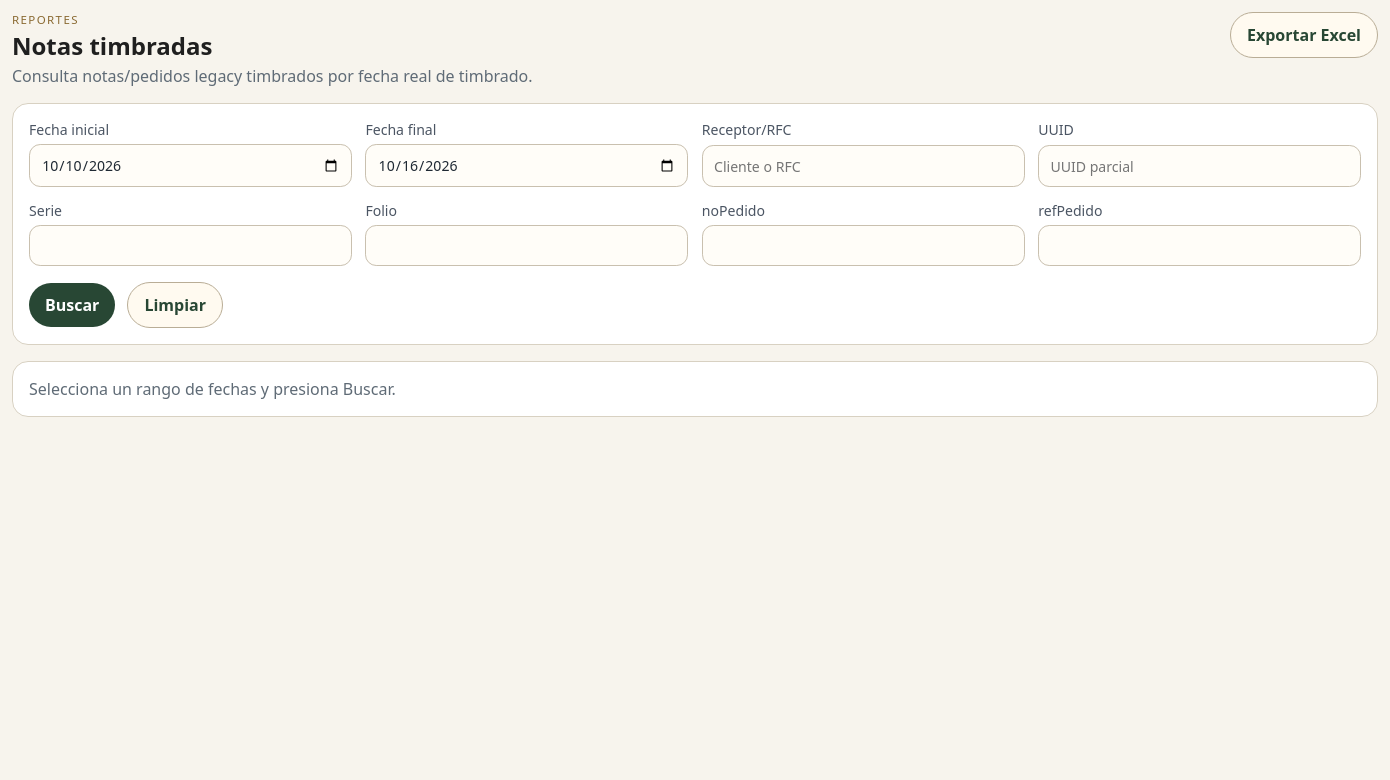
StampedLegacyNotesReportPageComponent › renders filters and loads grid results with current filters
Type "2026-05-01" into the date field labelled "Fecha inicial" at (190, 166), box [29,144,352,187]
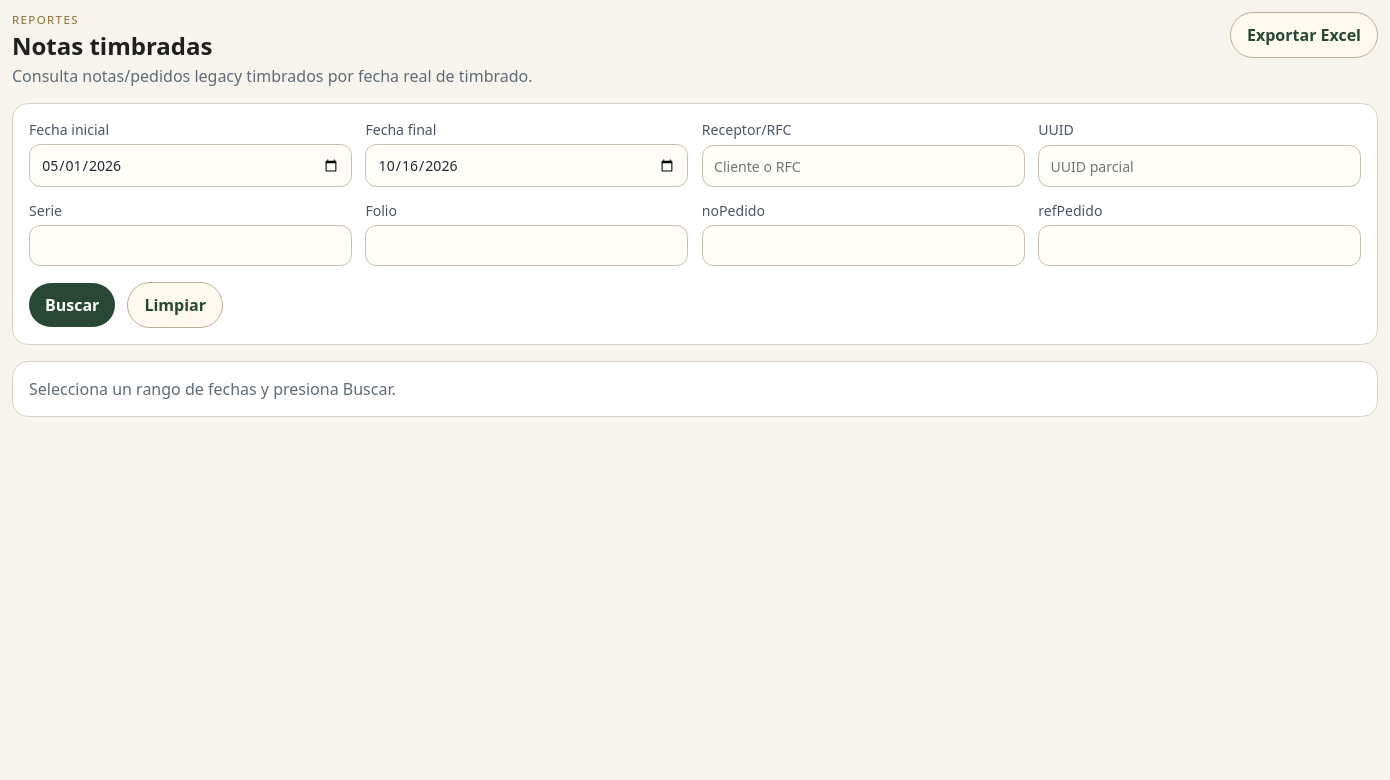
Type "2026-05-04" into the date field labelled "Fecha final" at (527, 166), box [365,144,688,187]
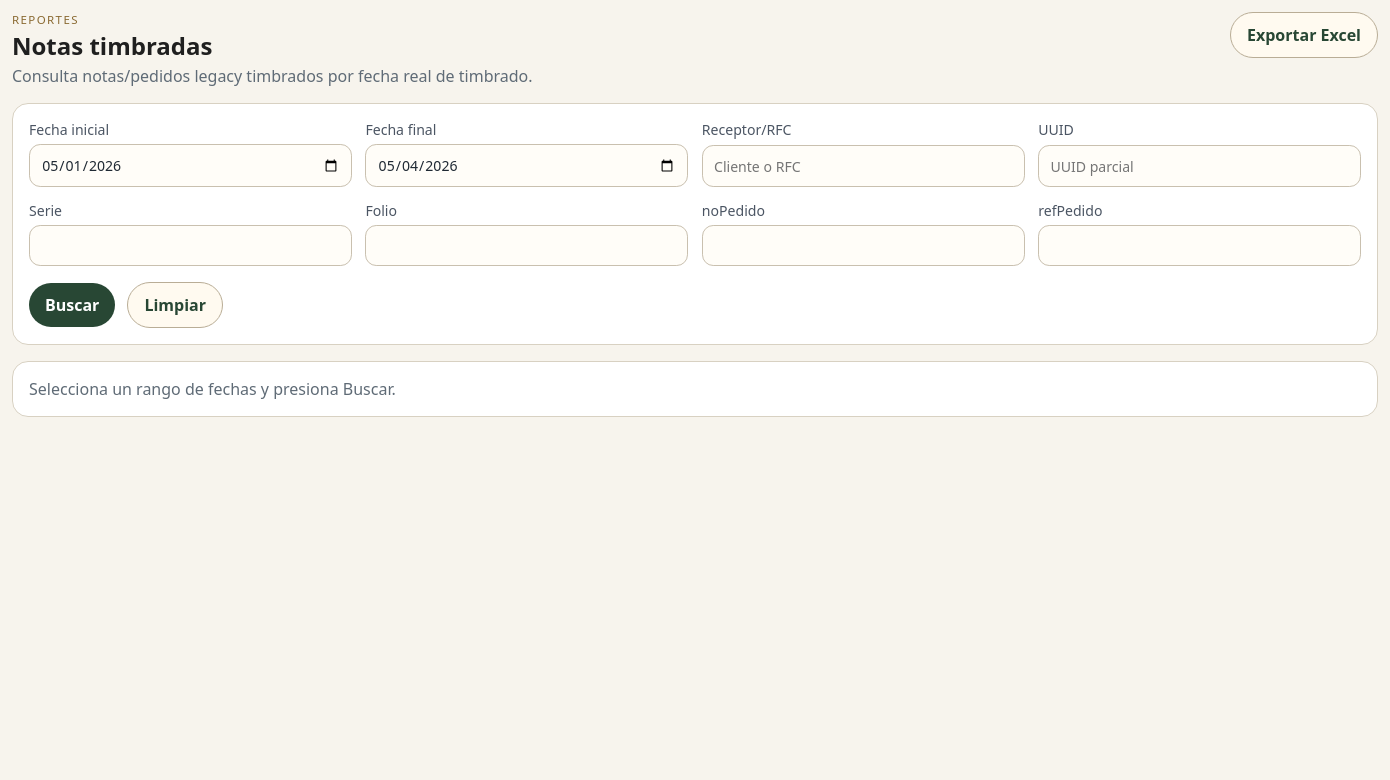
Type "1171335" into the search field labelled "noPedido" at (863, 246), box [702,225,1025,266]
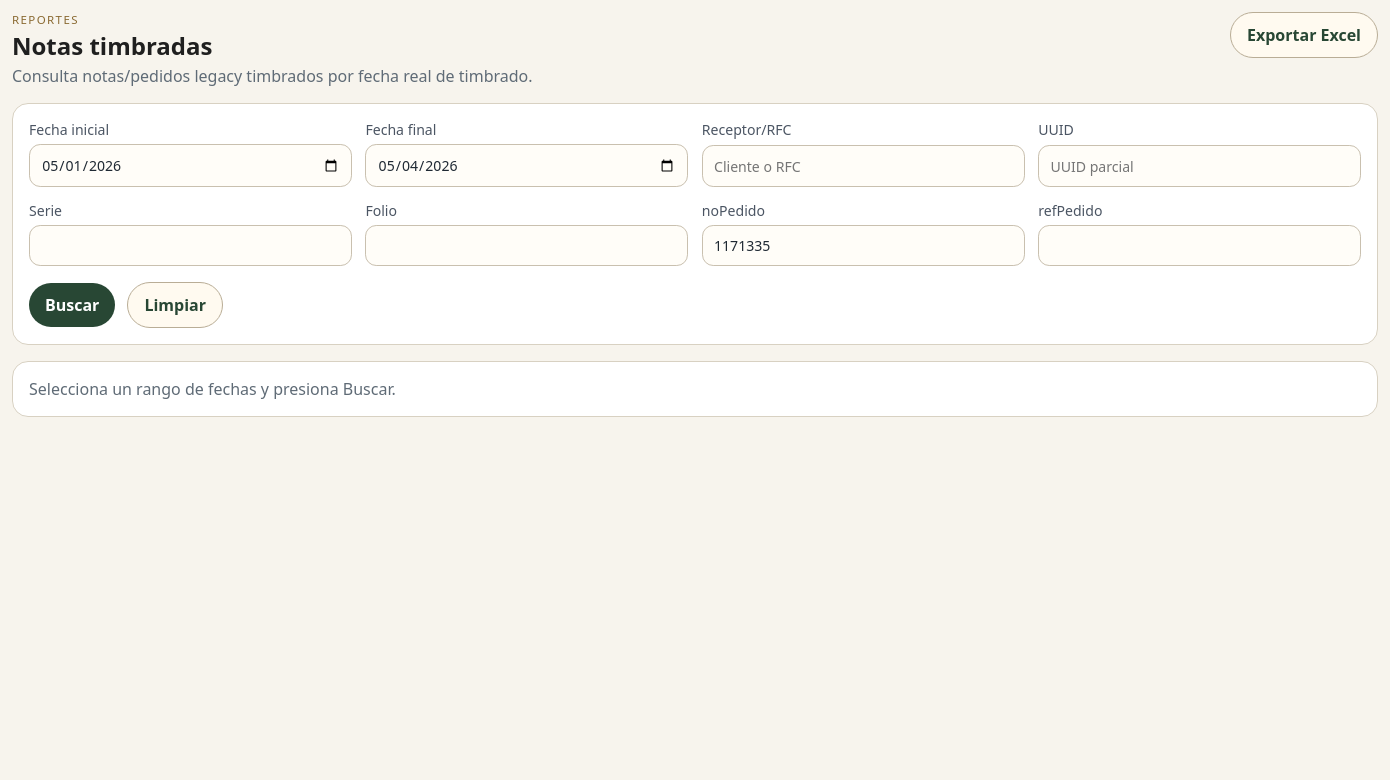
Click the button "Buscar" at (72, 305), box [29,283,115,327]
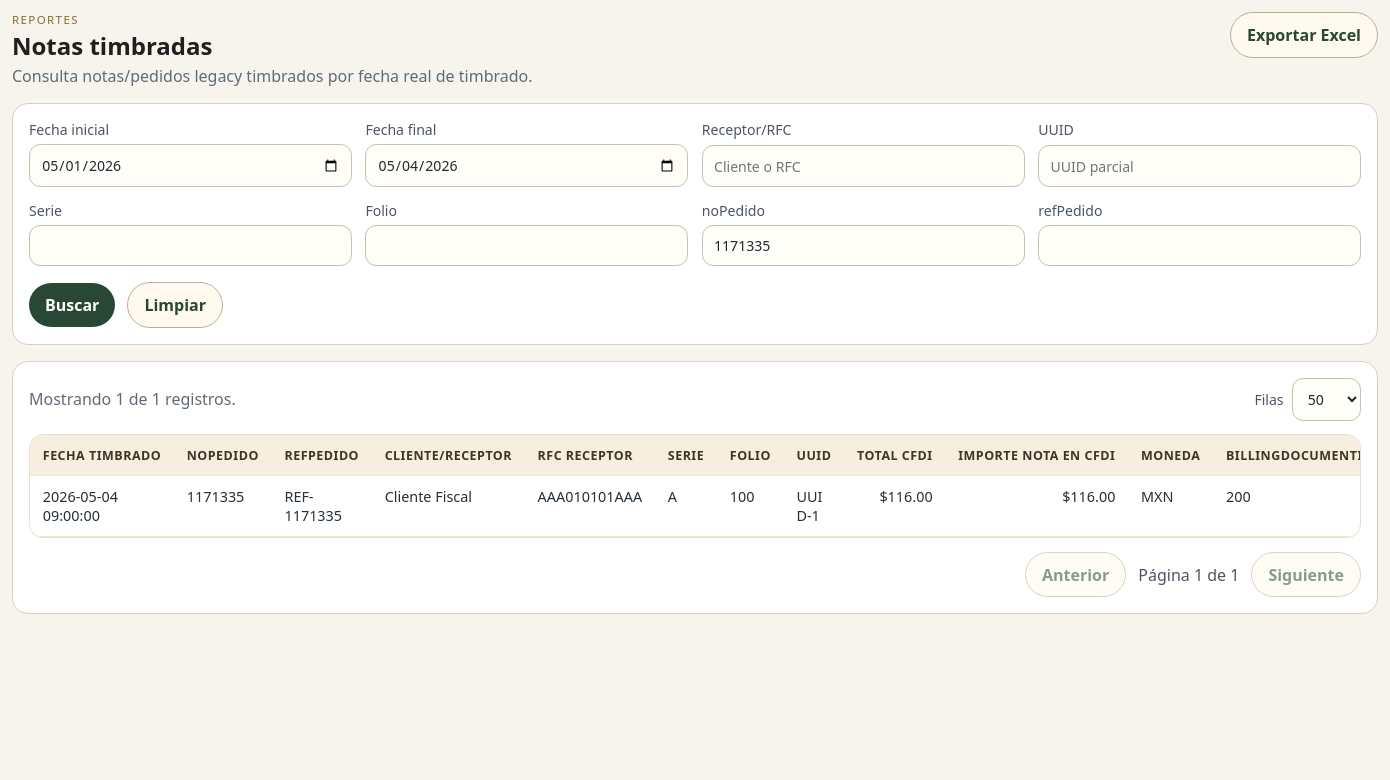
Now the text "1171335" is shown, box [174,475,272,537]
Now the text "Cliente Fiscal" is shown, box [372,475,525,537]
Now the text "Mostrando 1 de 1 registros." is shown, box [29,388,236,410]
